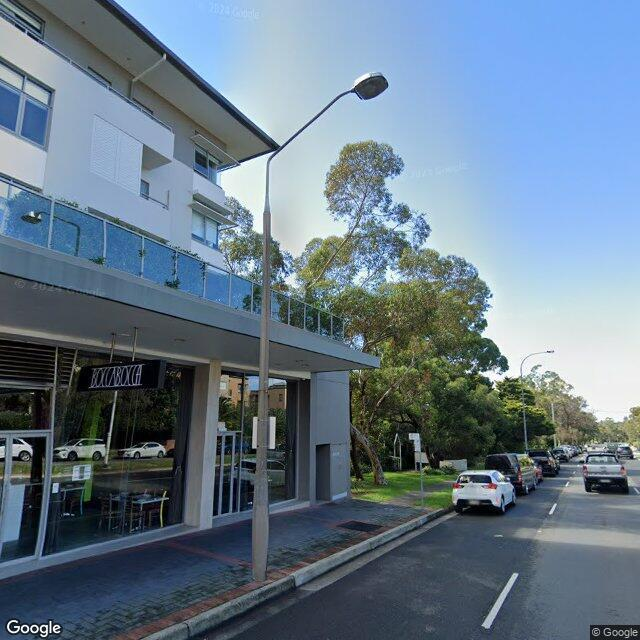steel-pole: (251, 210, 271, 580), (521, 375, 528, 450)
streetlight: (262, 71, 390, 211), (520, 350, 554, 374)
